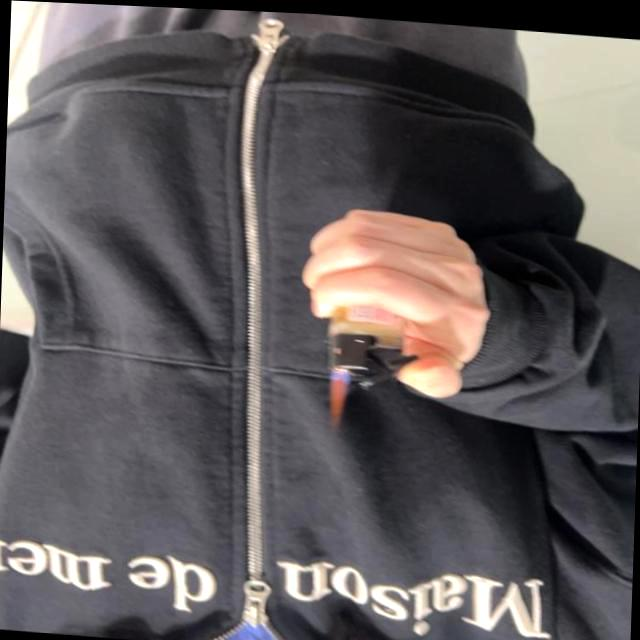fire: (327, 366, 349, 430)
